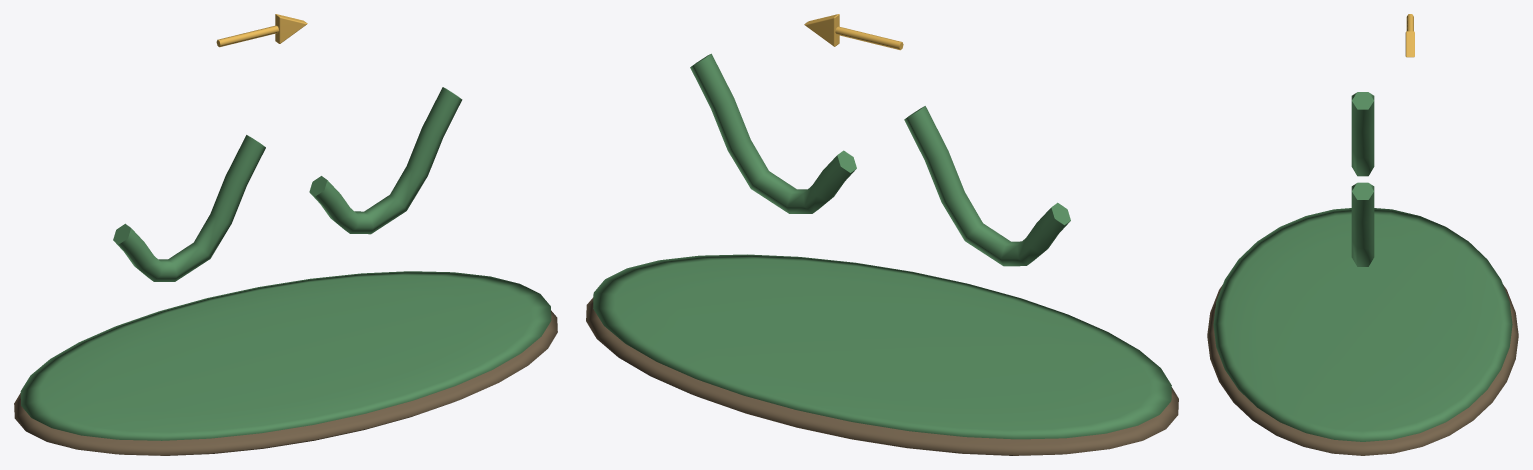
File: complete-third-given-condition.glb
3 views of the same model, side by side, from view 1: azimuth 30°, elevation 25°; view 2: azimuth 150°, elevation 25°; view 3: azimuth 270°, elevation 25° (orthographic). The views are drawn at different scales.
Parts seen in each view (by area): view 1: complete-third-given-condition_surface_01, complete-third-given-condition_surface_00, complete-third-given-condition_surface_02; view 2: complete-third-given-condition_surface_01, complete-third-given-condition_surface_00, complete-third-given-condition_surface_02; view 3: complete-third-given-condition_surface_01, complete-third-given-condition_surface_00, complete-third-given-condition_surface_02.
Boxes of the visible parts, x1,y1,x2,y2 form: complete-third-given-condition_surface_01: (20,87,551,440); complete-third-given-condition_surface_00: (14,310,557,455); complete-third-given-condition_surface_02: (216,14,307,47); complete-third-given-condition_surface_01: (593,53,1171,439); complete-third-given-condition_surface_00: (586,297,1178,455); complete-third-given-condition_surface_02: (804,14,903,50); complete-third-given-condition_surface_01: (1213,92,1512,441); complete-third-given-condition_surface_00: (1207,285,1518,455); complete-third-given-condition_surface_02: (1405,14,1414,57).
Size of the model in its own units: 4.56 by 2.89 by 2.5.
